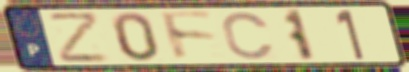0: (111, 10, 163, 64)
1: (281, 7, 319, 63), (333, 8, 367, 61)
C: (220, 10, 277, 62)
F: (156, 10, 219, 64)
Z: (46, 10, 112, 65)
